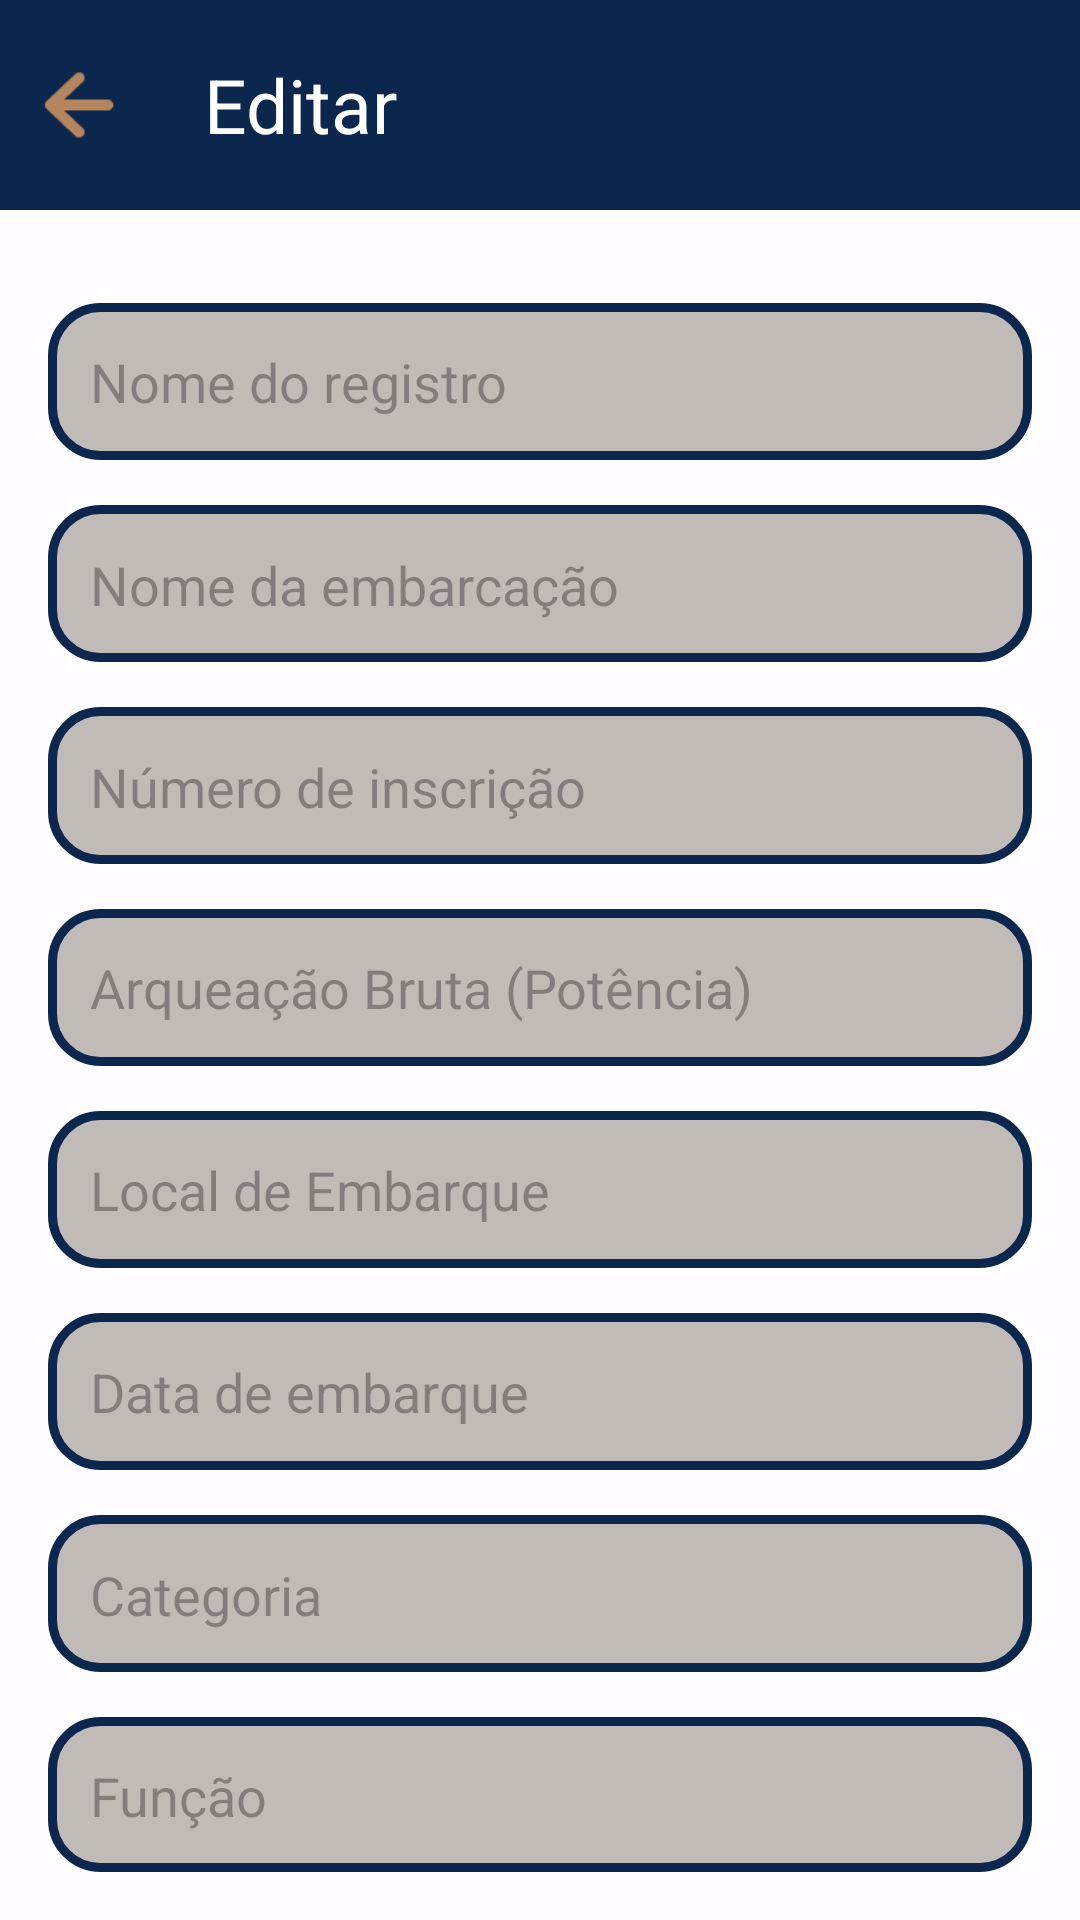

Locate icon controls on the screen. Image size 1080×1920, boxes as [x1, y1, x2, y2].
Voltar: [45, 72, 114, 138]
